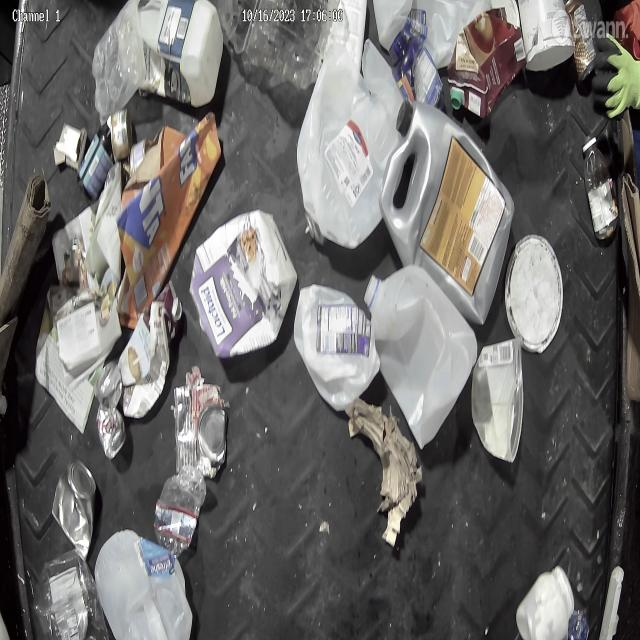can: (171, 382, 223, 462), (46, 454, 89, 548), (95, 360, 125, 466), (562, 1, 598, 72), (104, 108, 128, 154)
milk_jug: (362, 262, 480, 448), (300, 41, 396, 241), (94, 529, 192, 640), (295, 282, 375, 409)
non_white_jug: (389, 89, 514, 324), (193, 237, 283, 347), (449, 6, 524, 124)
plastic_bottle: (156, 462, 206, 548)
